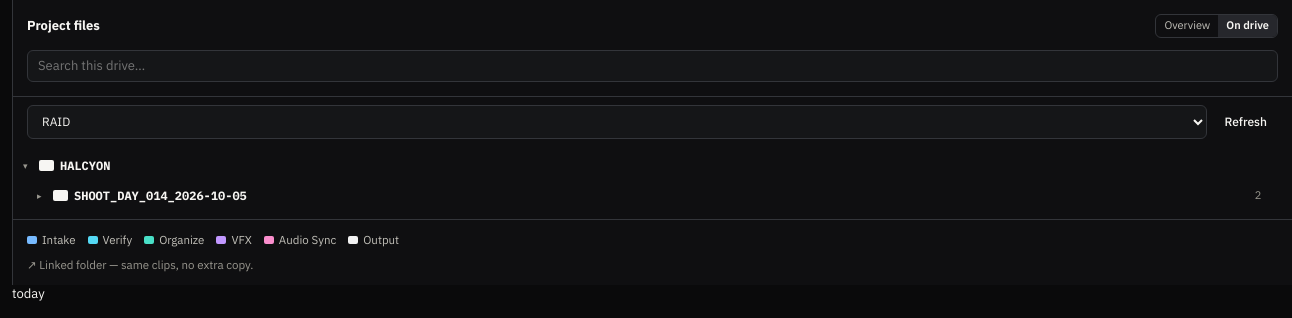
Test case: the Files panel on the drives › searches the whole drive folder
Expected: the element named "HALCYON on RAID" is shown, [23, 158, 1261, 203]
Type "C002" into the field named "Search project files". click: (652, 66)
box: [27, 50, 1278, 82]
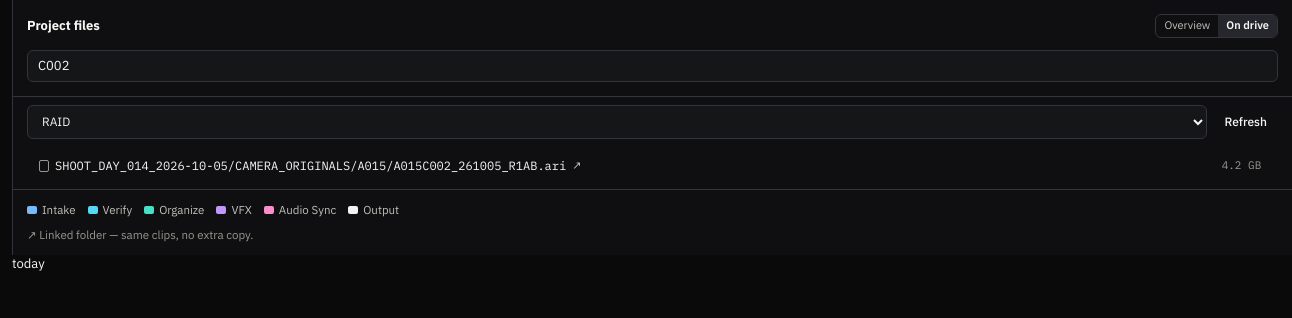
Result: the text "SHOOT_DAY_014_2026-10-05/CAMERA_ORIGINALS/A015/A015C002_261005_R1AB.ari" is shown at [55, 157, 566, 175]
